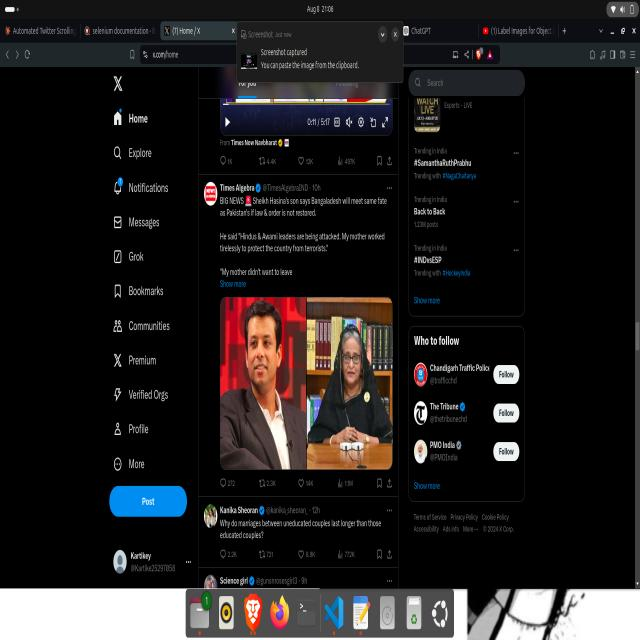Tweet-Comment_Box-: (194, 172, 403, 501)
